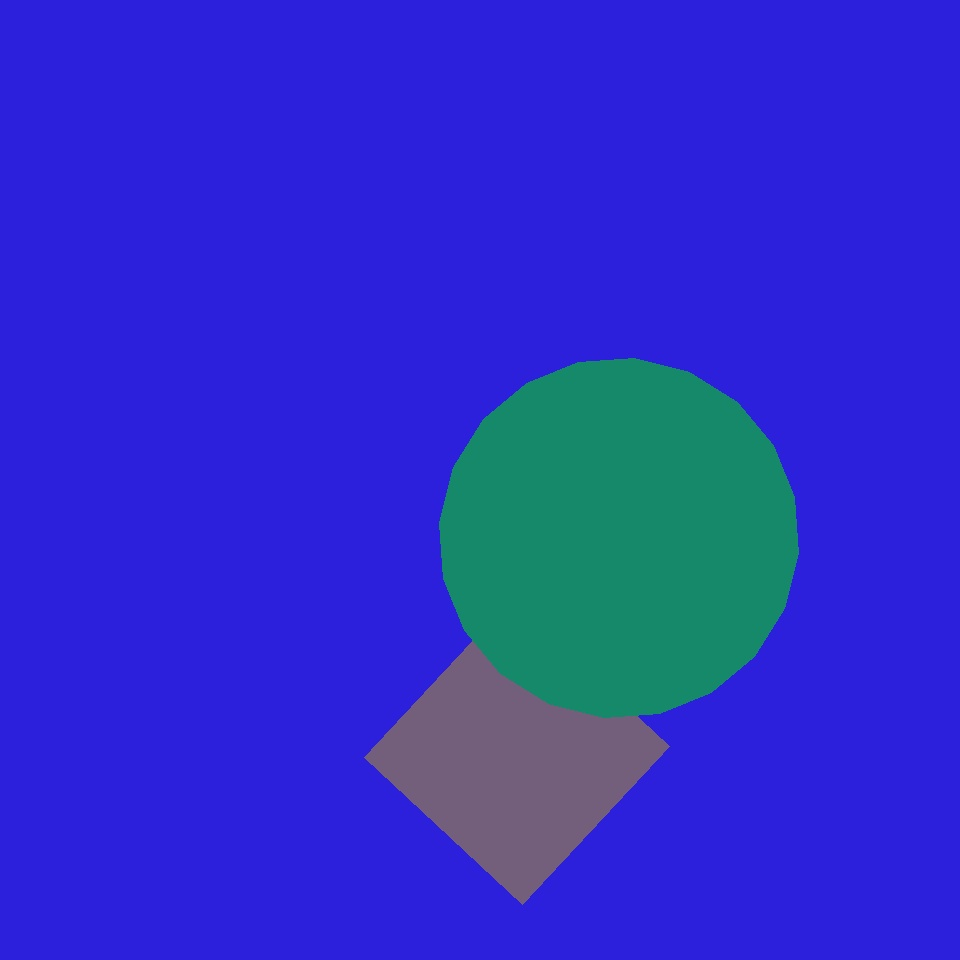circle: (177, 391, 342, 535), (153, 102, 300, 248), (869, 471, 951, 550)
square: (365, 600, 670, 904)
triangle: (439, 358, 798, 718), (441, 416, 746, 721), (99, 554, 377, 832)
